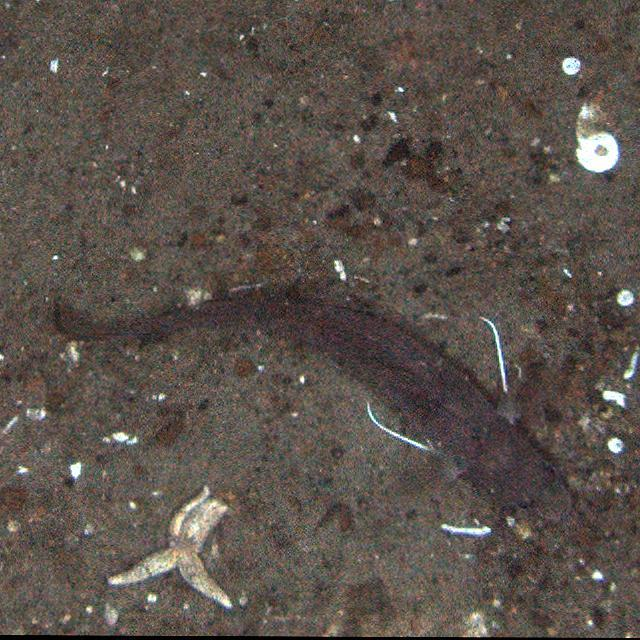roundfish: (50, 281, 577, 540)
